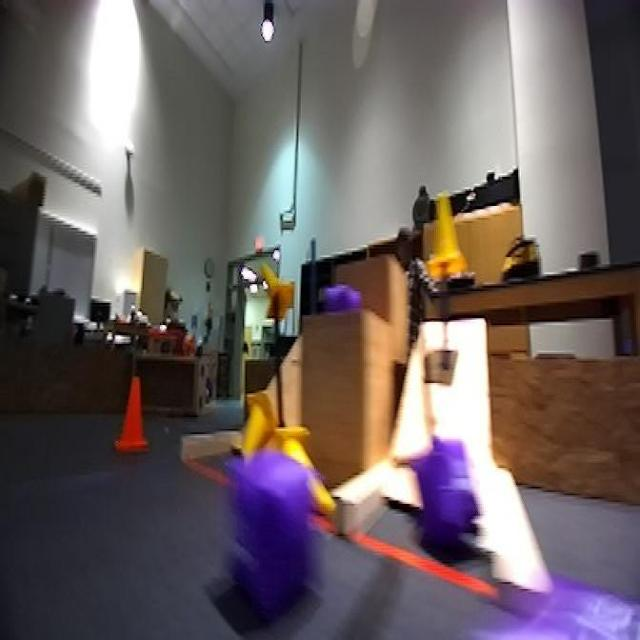frc_cone: (277, 427, 337, 526), (423, 182, 466, 283), (260, 257, 298, 323), (239, 381, 276, 441)
frc_cube: (222, 442, 324, 620), (466, 556, 640, 640), (415, 434, 481, 553), (326, 281, 368, 315)
